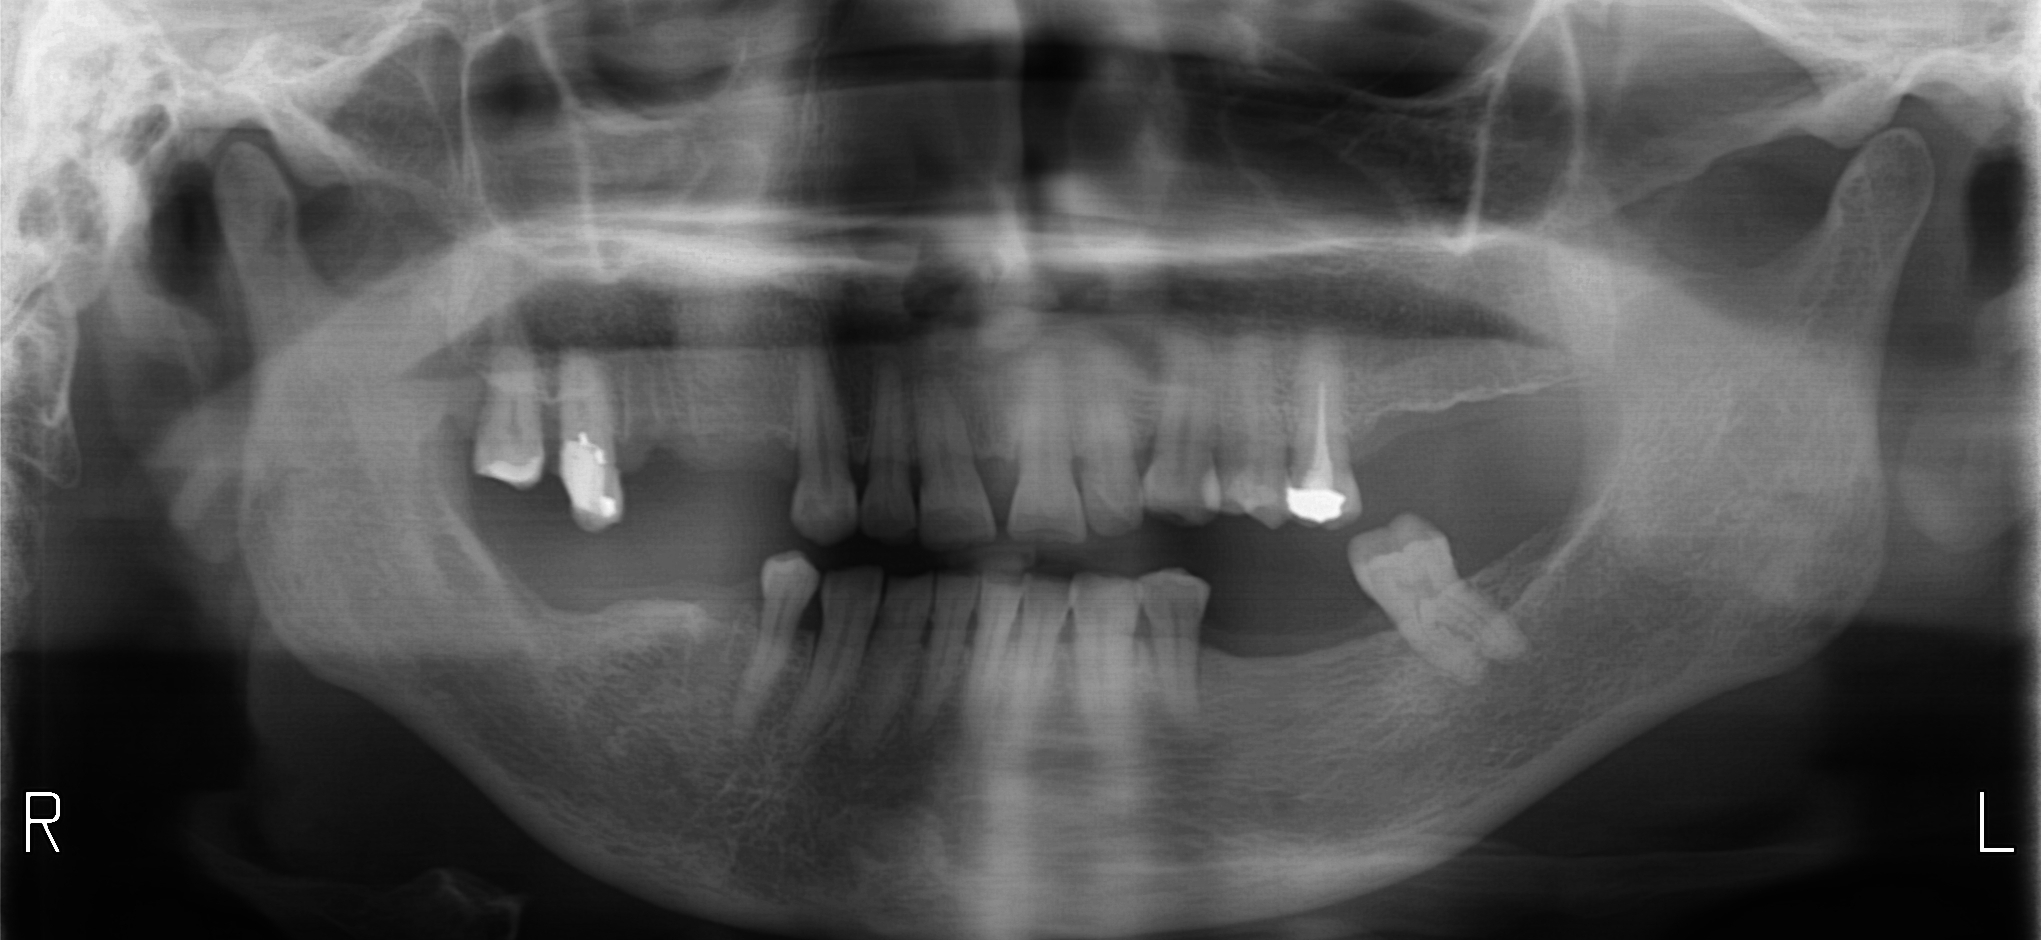cavity: (1080, 460, 1089, 473)
